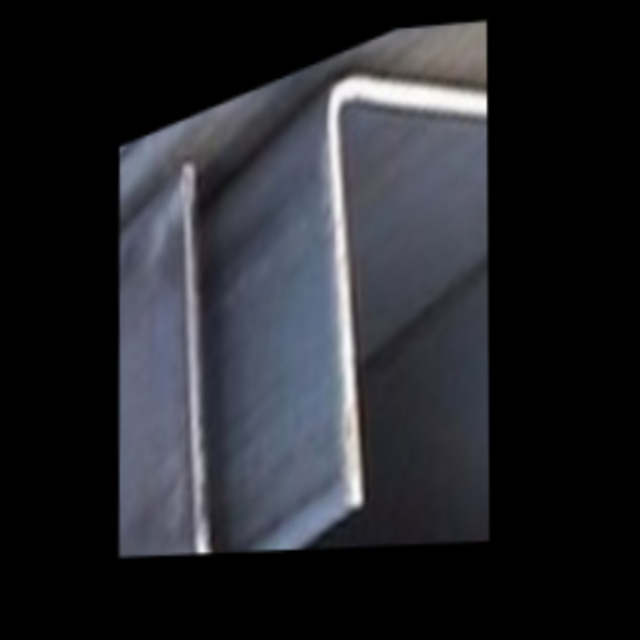Shveller: (185, 35, 489, 554), (335, 21, 489, 548)
